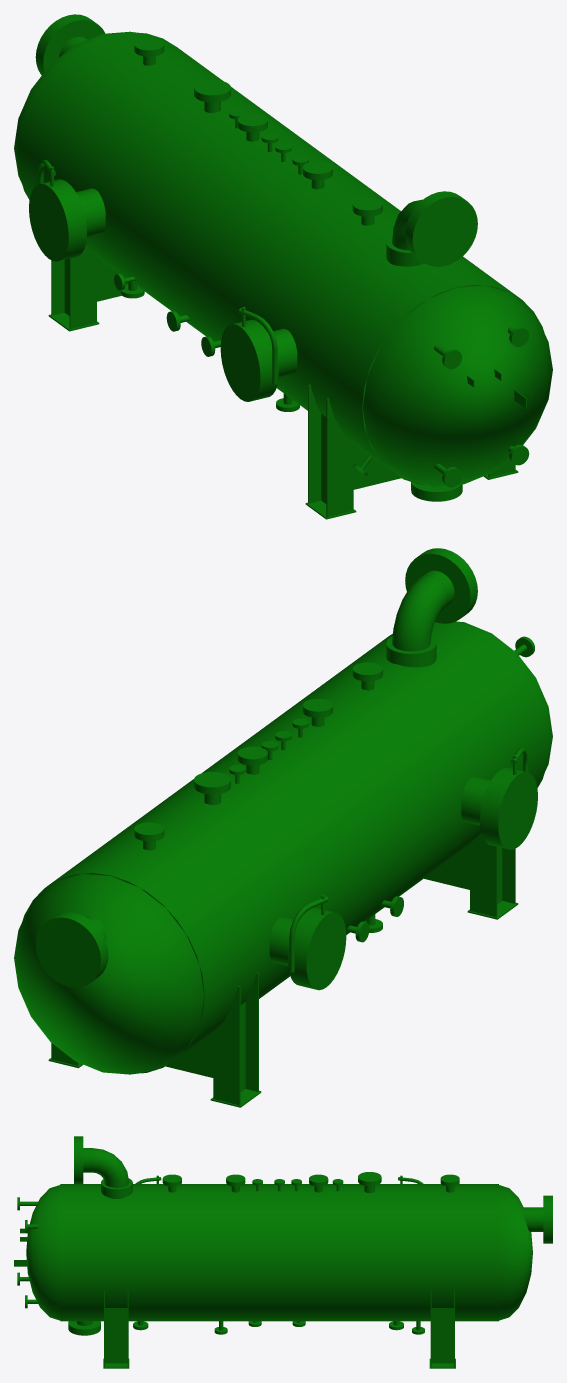
The model's file is Image-1710907574626-2280296635744_20-VA50.fbx.
The picture shows the model from 3 angles, top to bottom: view 1: azimuth 30°, elevation 25°; view 2: azimuth 150°, elevation 25°; view 3: azimuth 270°, elevation 25°; orthographic projection. The views are drawn at different scales.
Parts seen in each view (by area): view 1: DISH 1 of SUBEQUIPMENT /20-VA50/PRIM, CYLINDER 3 of SUBEQUIPMENT /20-VA50/PRIM, CYLINDER 2 of SUBEQUIPMENT /20-VA50/PRIM, CYLINDER 4 of SUBEQUIPMENT /20-VA50/PRIM, /20-VA50/N2, CYLINDER 1 of SUBEQUIPMENT /20-VA50/NOZZ, CYLINDER 2 of SUBEQUIPMENT /20-VA50/NOZZ, BOX 3 of SUBEQUIPMENT /20-VA50/SLIDING-END, BOX 3 of SUBEQUIPMENT /20-VA50/FIXED-END, /20-VA50/N1, /20-VA50/M1, CYLINDER 5 of SUBEQUIPMENT /20-VA50/PRIM (+14 smaller); view 2: CYLINDER 3 of SUBEQUIPMENT /20-VA50/PRIM, CYLINDER 2 of SUBEQUIPMENT /20-VA50/PRIM, DISH 2 of SUBEQUIPMENT /20-VA50/PRIM, CYLINDER 4 of SUBEQUIPMENT /20-VA50/PRIM, /20-VA50/N1, /20-VA50/N2, CYLINDER 2 of SUBEQUIPMENT /20-VA50/NOZZ, CYLINDER 1 of SUBEQUIPMENT /20-VA50/NOZZ, CTORUS 1 of SUBEQUIPMENT /20-VA50/NOZZ, BOX 5 of SUBEQUIPMENT /20-VA50/FIXED-END, BOX 5 of SUBEQUIPMENT /20-VA50/SLIDING-END, /20-VA50/M2 (+10 smaller); view 3: CYLINDER 3 of SUBEQUIPMENT /20-VA50/PRIM, CYLINDER 2 of SUBEQUIPMENT /20-VA50/PRIM, CYLINDER 4 of SUBEQUIPMENT /20-VA50/PRIM, DISH 1 of SUBEQUIPMENT /20-VA50/PRIM, DISH 2 of SUBEQUIPMENT /20-VA50/PRIM, BOX 7 of SUBEQUIPMENT /20-VA50/SLIDING-END, BOX 7 of SUBEQUIPMENT /20-VA50/FIXED-END, CTORUS 1 of SUBEQUIPMENT /20-VA50/NOZZ, /20-VA50/N1, CYLINDER 5 of SUBEQUIPMENT /20-VA50/PRIM, /20-VA50/N2, CYLINDER 1 of SUBEQUIPMENT /20-VA50/PRIM (+3 smaller).
Part boxes in pixels (<box>): DISH 1 of SUBEQUIPMENT /20-VA50/PRIM: <box>363,285,552,486</box>; CYLINDER 3 of SUBEQUIPMENT /20-VA50/PRIM: <box>134,119,400,341</box>; CYLINDER 2 of SUBEQUIPMENT /20-VA50/PRIM: <box>21,35,292,302</box>; CYLINDER 4 of SUBEQUIPMENT /20-VA50/PRIM: <box>247,201,516,466</box>; /20-VA50/N2: <box>405,191,477,266</box>; CYLINDER 1 of SUBEQUIPMENT /20-VA50/NOZZ: <box>29,181,77,261</box>; CYLINDER 2 of SUBEQUIPMENT /20-VA50/NOZZ: <box>220,322,268,401</box>; BOX 3 of SUBEQUIPMENT /20-VA50/SLIDING-END: <box>326,398,353,517</box>; BOX 3 of SUBEQUIPMENT /20-VA50/FIXED-END: <box>69,245,96,328</box>; /20-VA50/N1: <box>35,14,105,75</box>; /20-VA50/M1: <box>54,179,105,258</box>; CYLINDER 5 of SUBEQUIPMENT /20-VA50/PRIM: <box>358,282,544,485</box>; CYLINDER 3 of SUBEQUIPMENT /20-VA50/PRIM: <box>163,706,434,934</box>; CYLINDER 2 of SUBEQUIPMENT /20-VA50/PRIM: <box>51,788,321,1055</box>; DISH 2 of SUBEQUIPMENT /20-VA50/PRIM: <box>14,873,204,1074</box>; CYLINDER 4 of SUBEQUIPMENT /20-VA50/PRIM: <box>277,623,545,890</box>; /20-VA50/N1: <box>35,912,108,987</box>; /20-VA50/N2: <box>405,548,477,623</box>; CYLINDER 2 of SUBEQUIPMENT /20-VA50/NOZZ: <box>489,770,537,849</box>; CYLINDER 1 of SUBEQUIPMENT /20-VA50/NOZZ: <box>298,910,346,990</box>; CTORUS 1 of SUBEQUIPMENT /20-VA50/NOZZ: <box>392,575,447,651</box>; BOX 5 of SUBEQUIPMENT /20-VA50/FIXED-END: <box>213,986,240,1105</box>; BOX 5 of SUBEQUIPMENT /20-VA50/SLIDING-END: <box>470,833,497,917</box>; /20-VA50/M2: <box>461,767,512,846</box>; CYLINDER 3 of SUBEQUIPMENT /20-VA50/PRIM: <box>206,1184,350,1321</box>; CYLINDER 2 of SUBEQUIPMENT /20-VA50/PRIM: <box>350,1184,493,1321</box>; CYLINDER 4 of SUBEQUIPMENT /20-VA50/PRIM: <box>65,1184,206,1321</box>; DISH 1 of SUBEQUIPMENT /20-VA50/PRIM: <box>26,1185,60,1320</box>; DISH 2 of SUBEQUIPMENT /20-VA50/PRIM: <box>499,1185,532,1320</box>; BOX 7 of SUBEQUIPMENT /20-VA50/SLIDING-END: <box>105,1308,127,1363</box>; BOX 7 of SUBEQUIPMENT /20-VA50/FIXED-END: <box>431,1308,453,1363</box>; CTORUS 1 of SUBEQUIPMENT /20-VA50/NOZZ: <box>92,1148,129,1187</box>; /20-VA50/N1: <box>522,1195,552,1243</box>; CYLINDER 5 of SUBEQUIPMENT /20-VA50/PRIM: <box>60,1184,65,1321</box>; /20-VA50/N2: <box>74,1136,92,1184</box>; CYLINDER 1 of SUBEQUIPMENT /20-VA50/PRIM: <box>494,1184,498,1321</box>.
Bounding box in the file's own units: 3.54 × 11.06 × 4.54.
